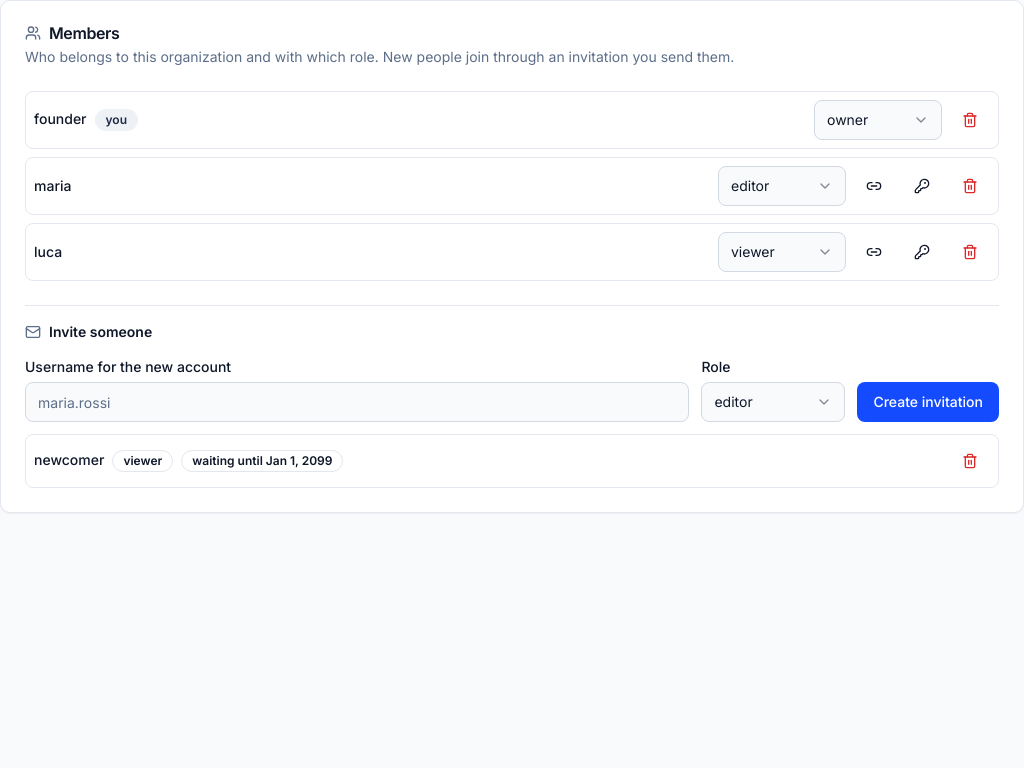
Test case: MembersCard › removes a member after asking, and says who took over
Expected: the text "maria" is shown, [34, 177, 71, 194]
Click the button named "Remove maria".
click(970, 186)  # box [950, 168, 990, 204]
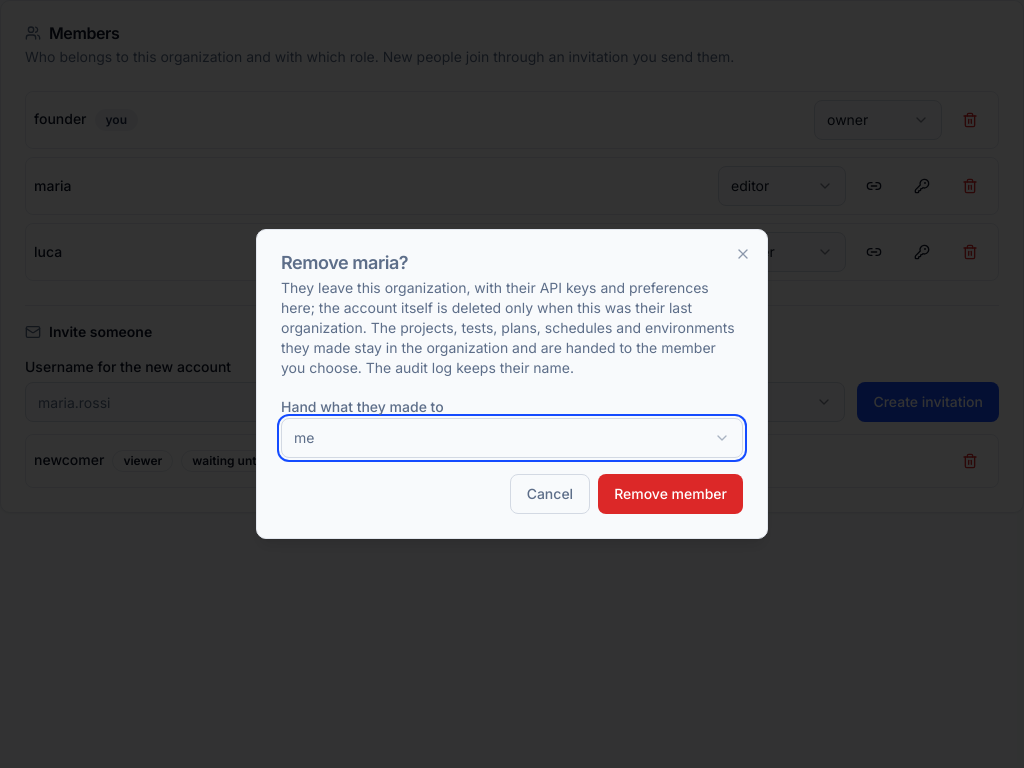
Result: the heading "Remove maria?" is shown at [281, 252, 408, 273]
Click the button "Remove member".
click(671, 494)  # box [598, 474, 743, 514]
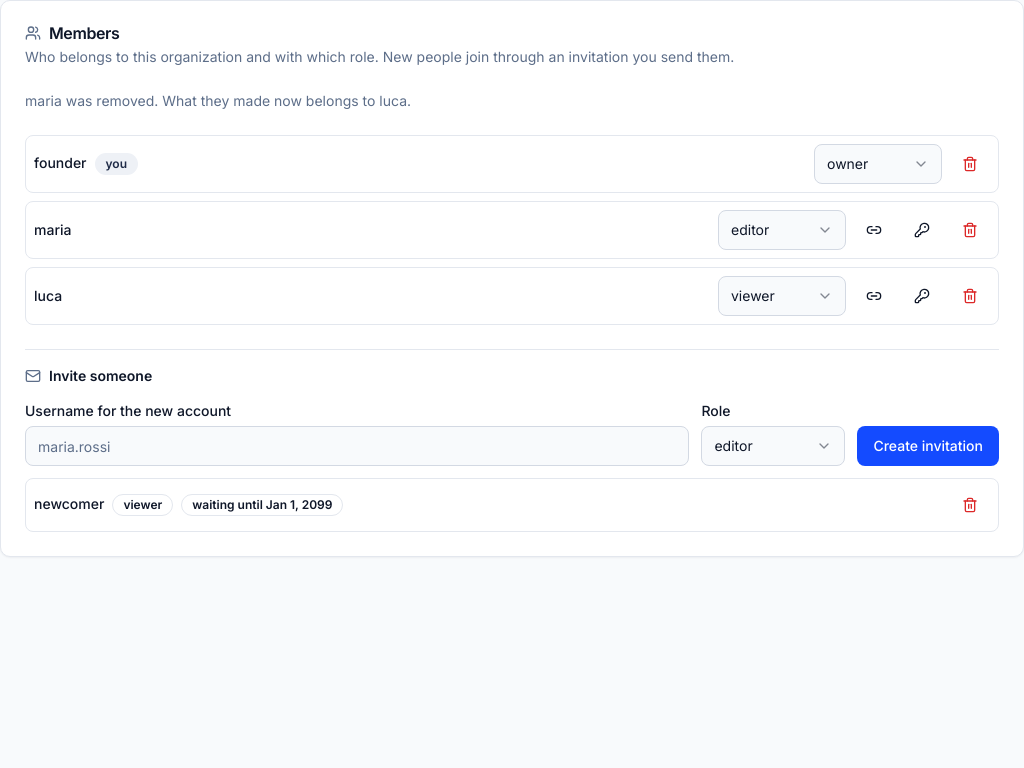
Result: the text "maria was removed. What they made now belongs to luca." is shown at [25, 92, 411, 109]
